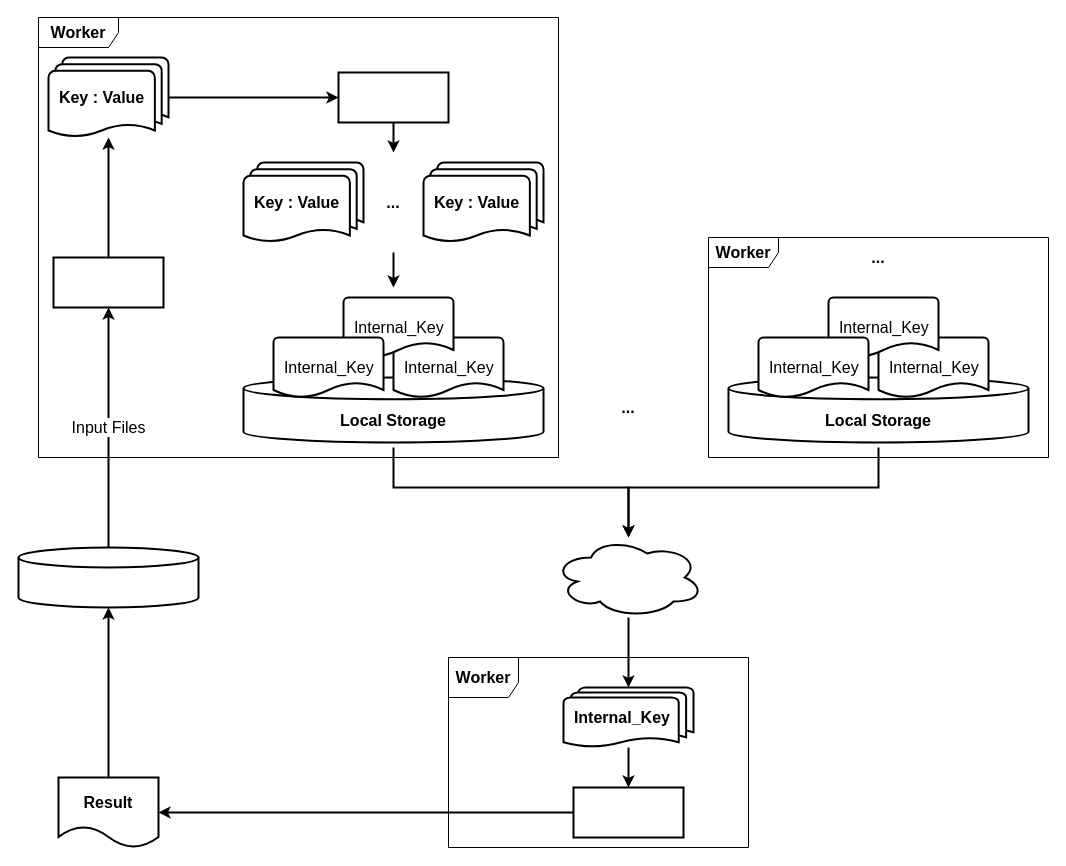
Some shapes in this 1066 by 866 pixel diagram are drawn without their labels. The centre of each missing label's shape, as x and y in pixels:
GFS: [108,577]
Hasher: [393,97]
Mapper: [108,282]
Reducer: [628,812]
Remote Read: [628,577]
